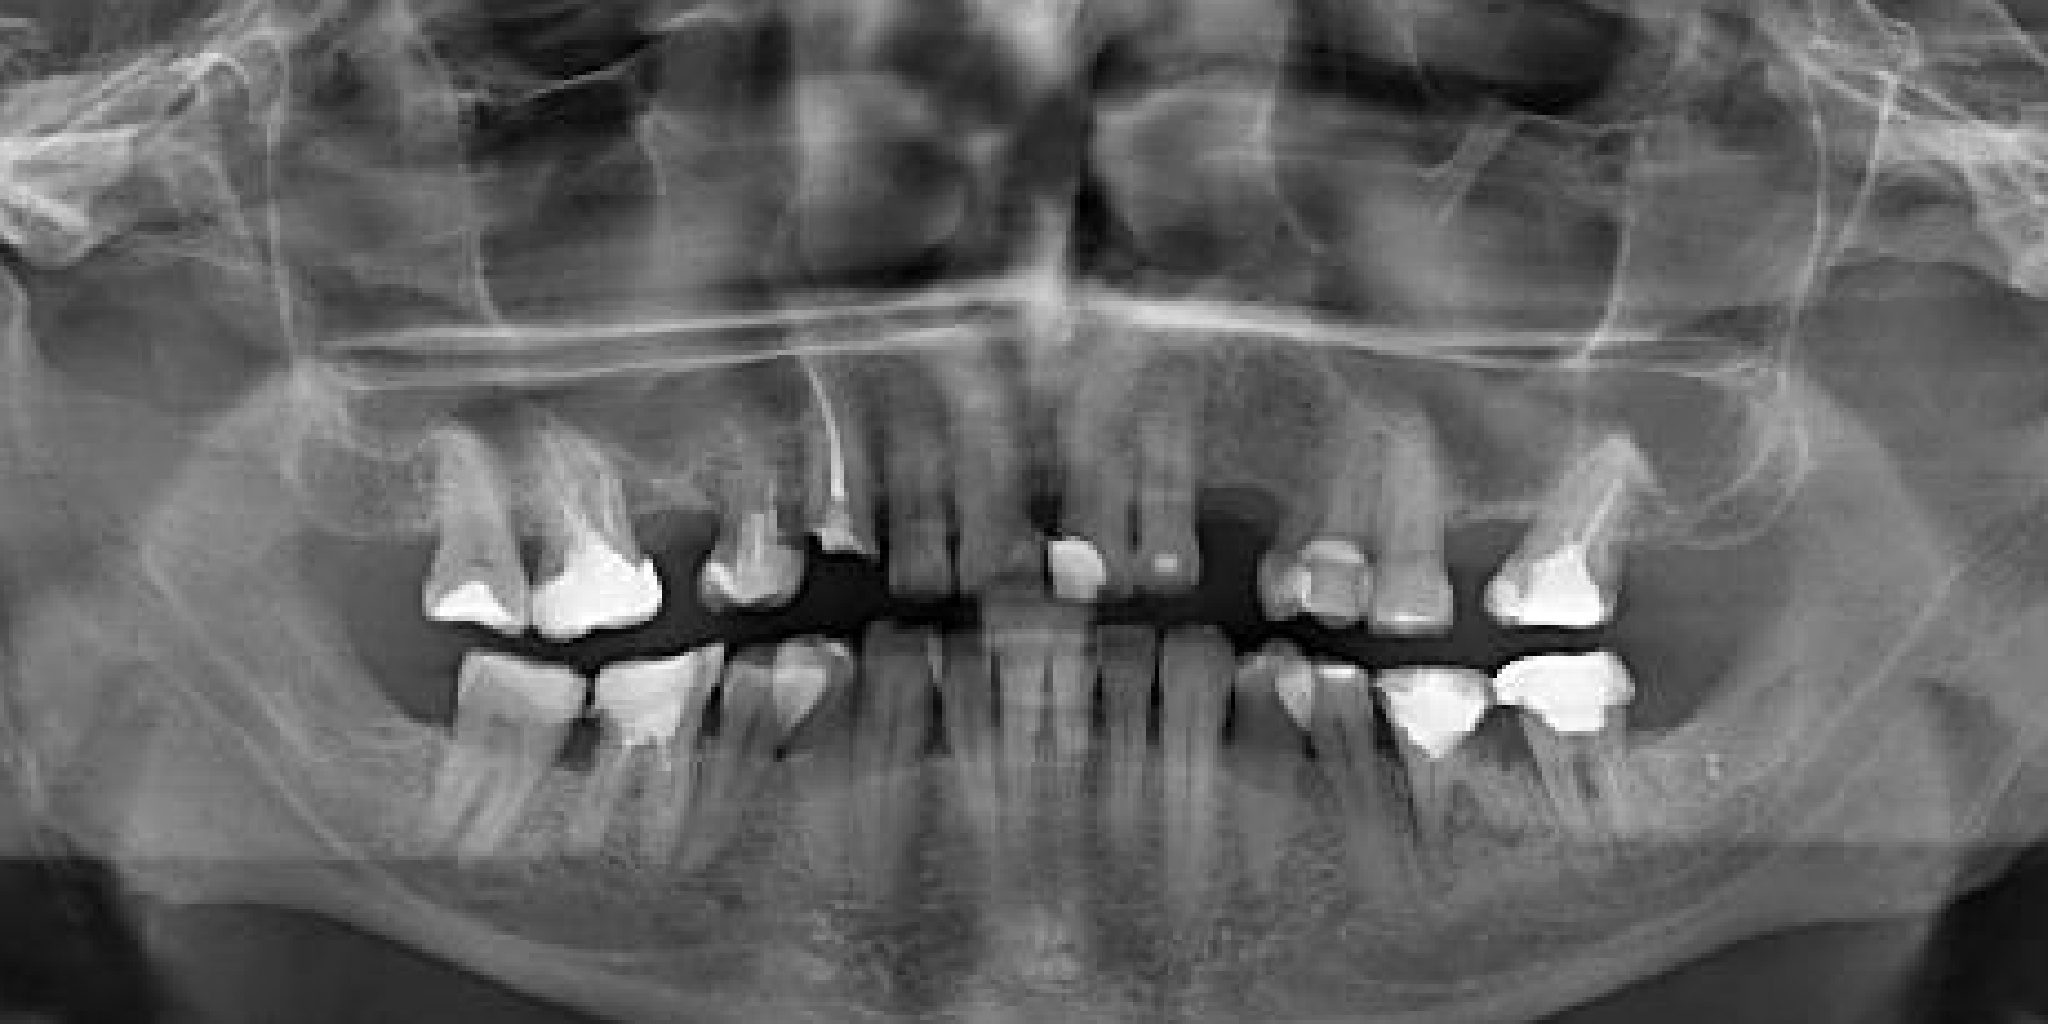Tooth: (505, 590, 765, 903), (363, 610, 610, 892), (633, 606, 856, 899), (455, 377, 680, 664), (1465, 400, 1681, 670), (1340, 643, 1546, 909), (1021, 316, 1199, 620), (1480, 610, 1682, 856), (1245, 366, 1415, 641), (1264, 635, 1430, 916), (754, 619, 906, 906), (904, 353, 1059, 615), (387, 410, 543, 654), (1128, 613, 1246, 929), (829, 614, 950, 903), (756, 345, 893, 573), (1348, 402, 1475, 644), (848, 360, 965, 614), (677, 408, 814, 619), (1215, 633, 1320, 901), (1121, 344, 1223, 607), (1079, 613, 1164, 887), (1025, 609, 1106, 891), (921, 611, 1016, 841), (977, 600, 1049, 856)
